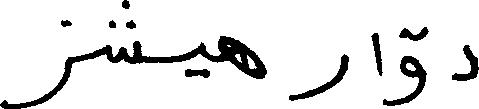X: (0, 15, 71, 108), (385, 23, 422, 108), (291, 49, 346, 105), (217, 31, 264, 83), (108, 0, 138, 68), (455, 40, 478, 85), (372, 28, 380, 80), (199, 37, 203, 81)
